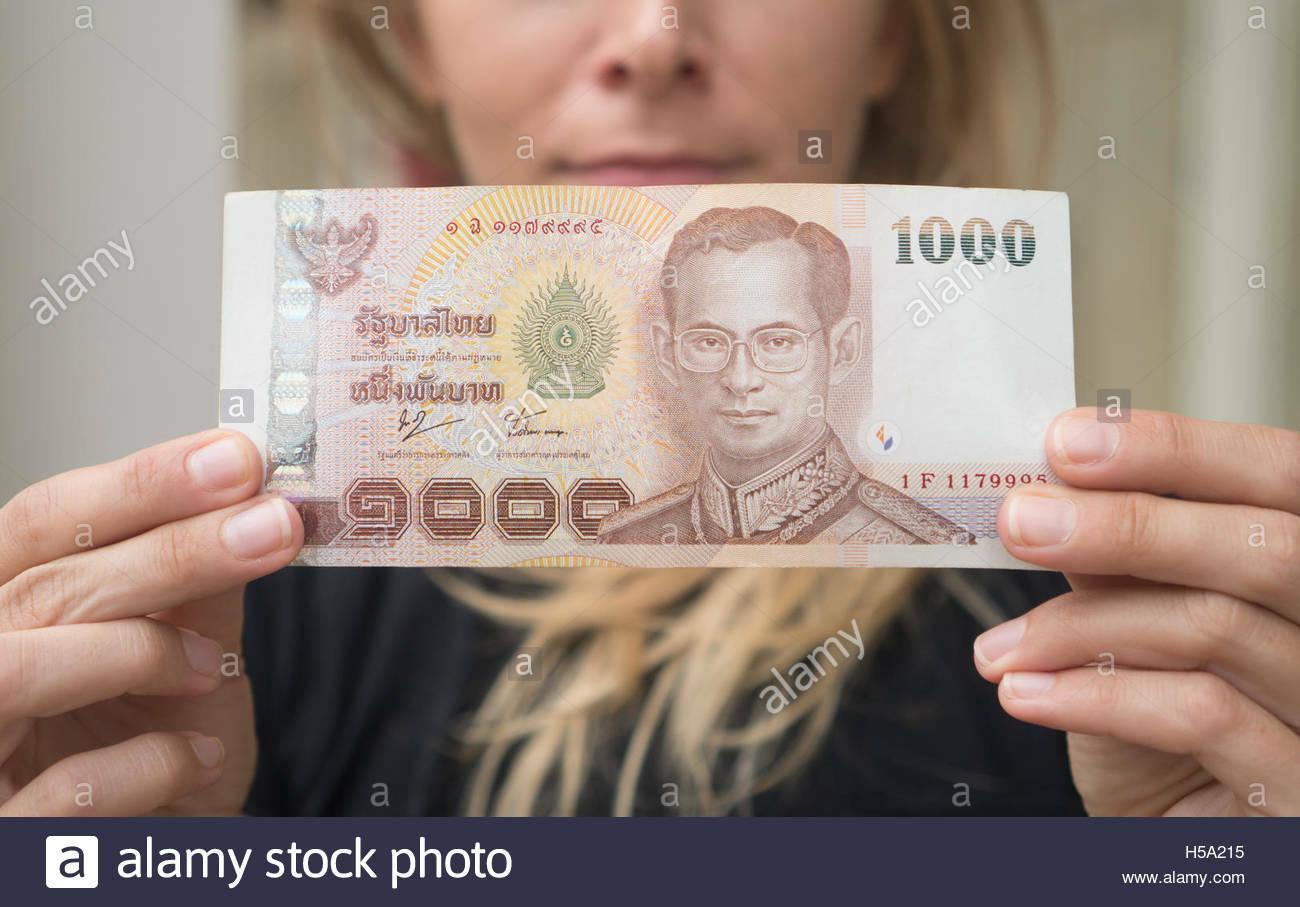1000BahtTai: (224, 185, 1070, 549)
